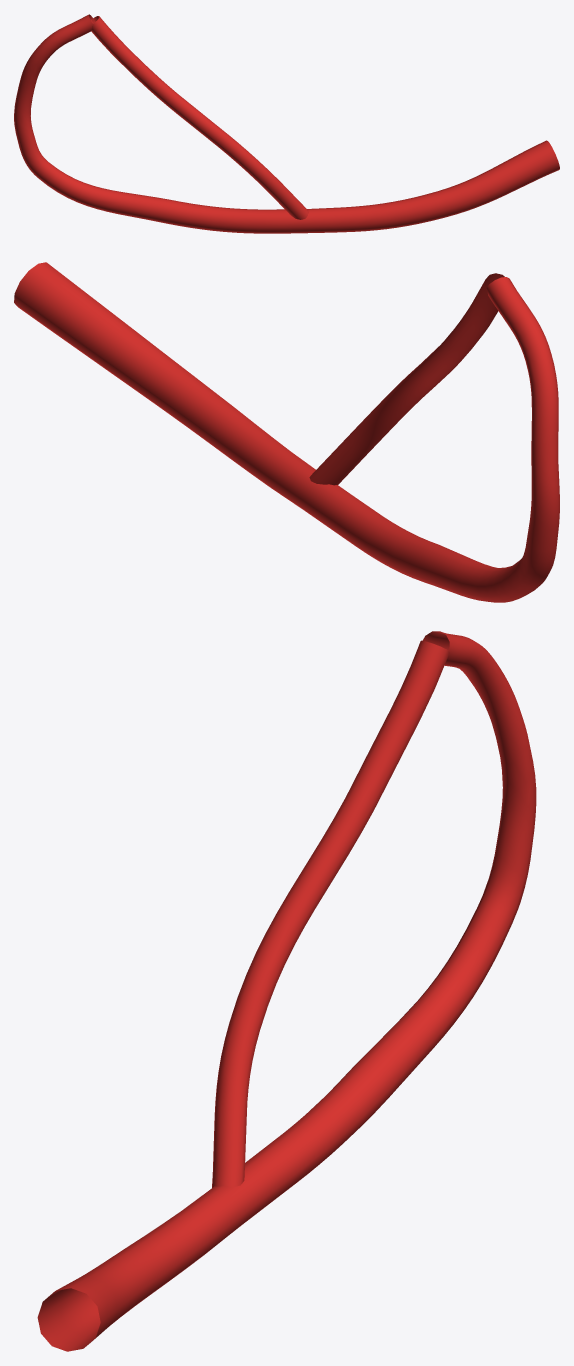
Rendered from circulatorio-right-colic-artery.glb.
The picture shows the model from 3 angles, top to bottom: view 1: azimuth 30°, elevation 25°; view 2: azimuth 150°, elevation 25°; view 3: azimuth 270°, elevation 25°; orthographic projection. The views are drawn at different scales.
Parts seen in each view (by area): view 1: Right colic artery; view 2: Right colic artery; view 3: Right colic artery.
Part boxes in pixels (x1,y1,x2,y2): Right colic artery: (14, 14, 559, 233); Right colic artery: (14, 262, 559, 602); Right colic artery: (37, 631, 536, 1351).
Size of the model in its own units: 0.0617 by 0.0299 by 0.031.
